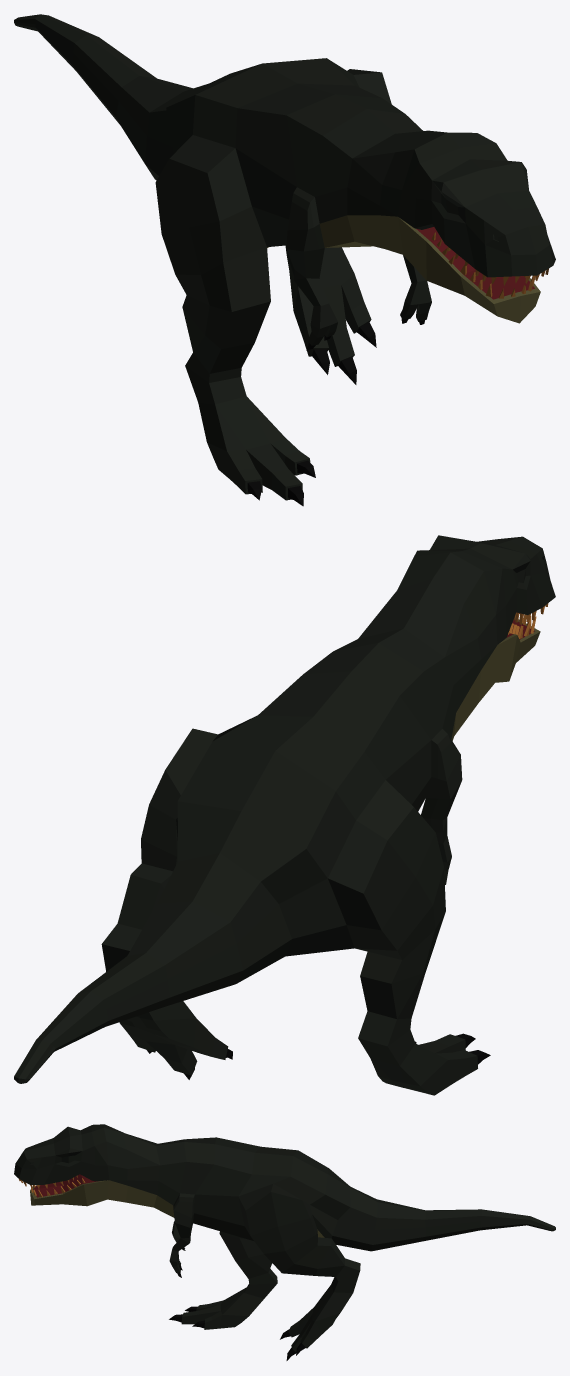
The model's file is Trex_000021.obj.
The picture shows the model from 3 angles, top to bottom: view 1: azimuth 30°, elevation 25°; view 2: azimuth 150°, elevation 25°; view 3: azimuth 270°, elevation 25°; orthographic projection. The views are drawn at different scales.
Visible parts, largest first — view 1: Trex_Cylinder; view 2: Trex_Cylinder; view 3: Trex_Cylinder.
Part boxes in pixels (box(x1,y1,x2,y2)): Trex_Cylinder: box(14, 14, 555, 506); Trex_Cylinder: box(14, 535, 555, 1095); Trex_Cylinder: box(14, 1124, 555, 1360).
Size of the model in its own units: 7.99 by 13.69 by 31.2.
